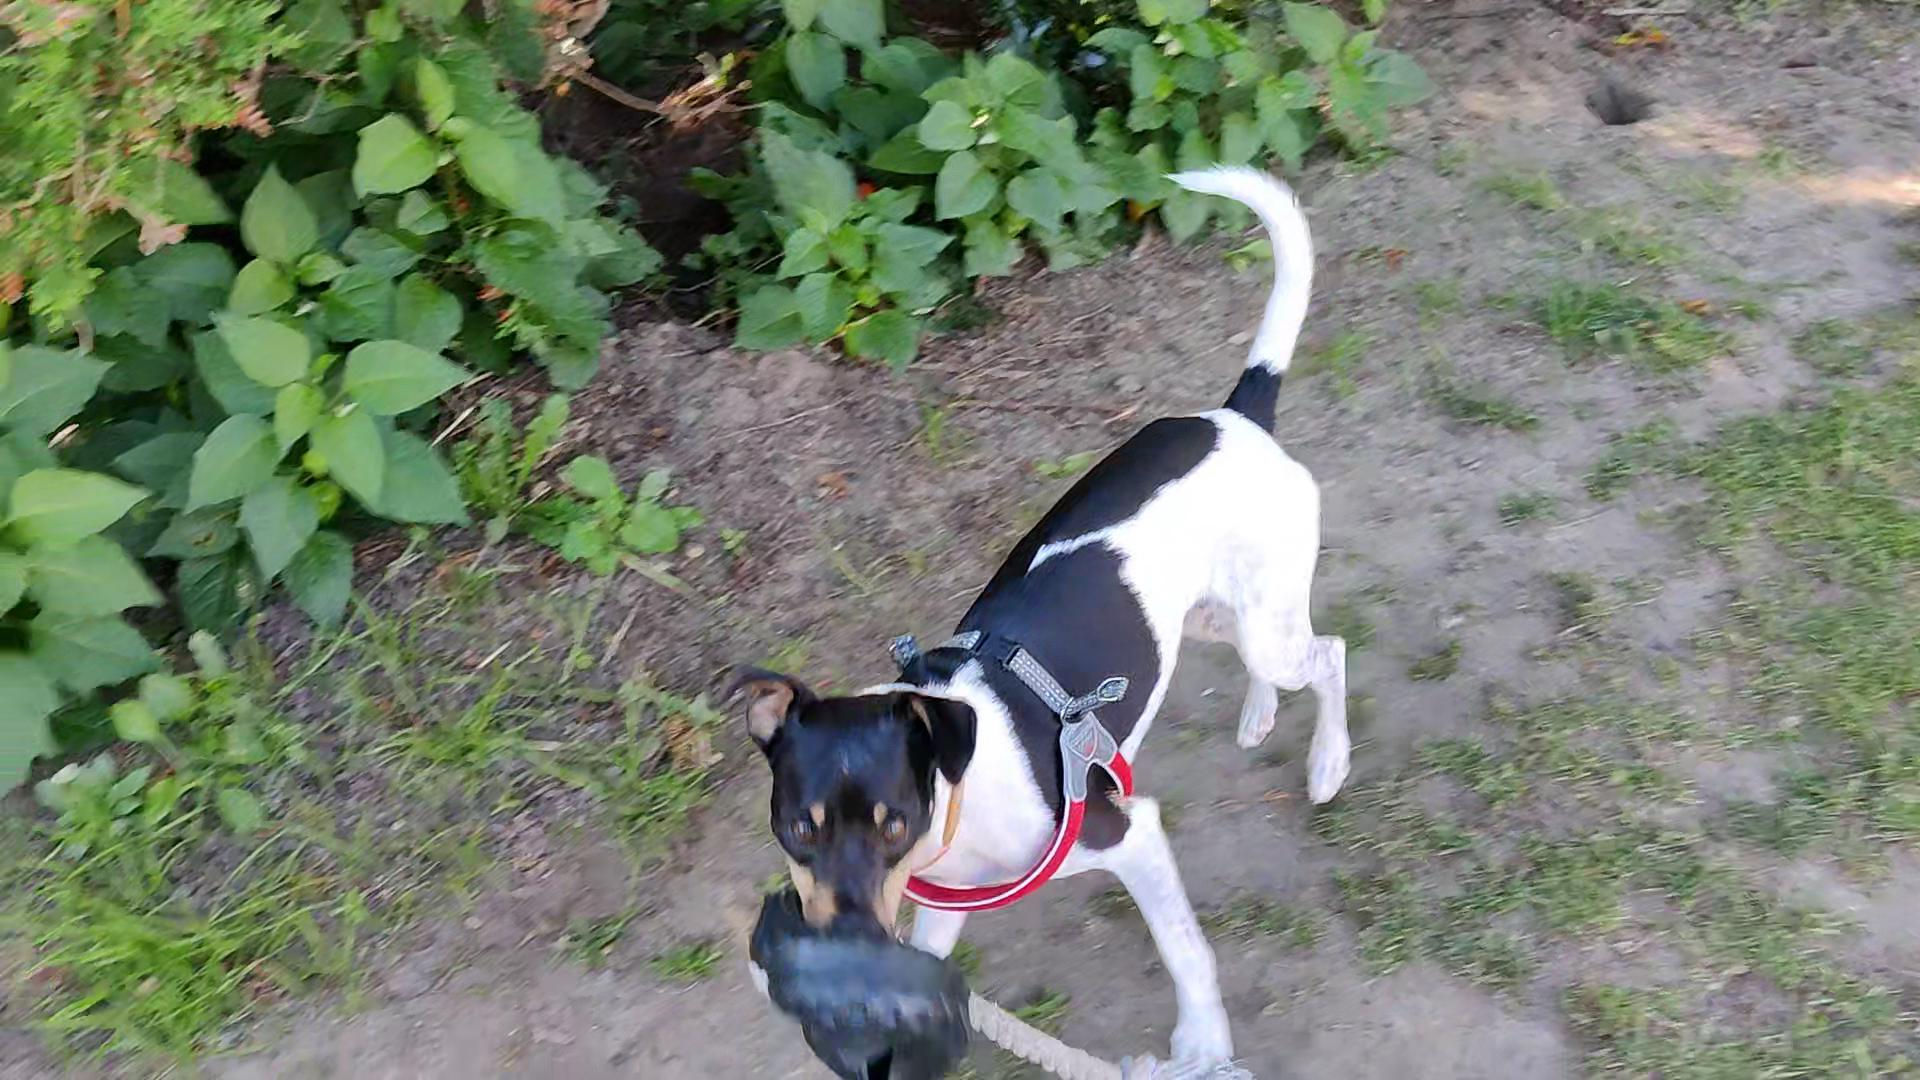Dog: (709, 150, 1373, 1079)
